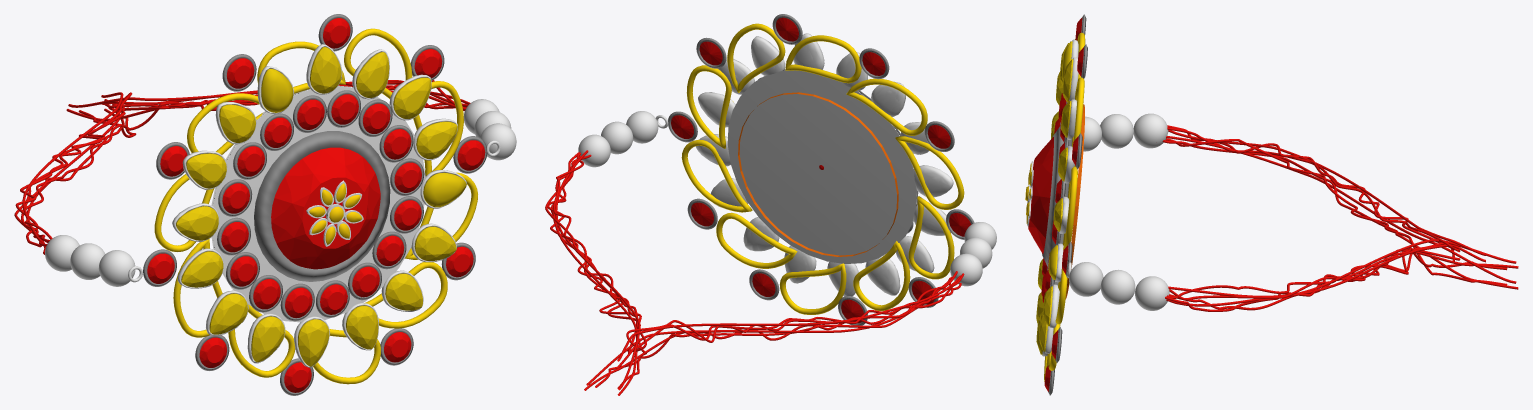
The model's file is rakhi.glb.
The picture shows the model from 3 angles, left to right: view 1: azimuth 30°, elevation 25°; view 2: azimuth 150°, elevation 25°; view 3: azimuth 270°, elevation 25°; orthographic projection. The views are drawn at different scales.
Parts seen in each view (by area): view 1: Gem_2, BezierCurve.010_28, pCone1.024_26, Cylinder_0, pCone1.034_27, Gem metal_29, BezierCurve.001_60, BezierCurve.002_61, Flower.002_50, Sphere.001_57, Flower.001_51, Sphere.002_58 (+30 smaller); view 2: Cylinder_0, BezierCurve.010_28, Gem metal_29, BezierCurve.001_60, BezierCurve.002_61, Cylinder.001_62, Sphere.006_55, Sphere.003_59, Sphere.004_53, Sphere.005_54, Sphere.002_58, Sphere.001_57 (+7 smaller); view 3: BezierCurve.002_61, BezierCurve.001_60, Gem_2, pCone1.024_26, BezierCurve.010_28, Gem metal_29, Sphere.005_54, Sphere.003_59, Sphere.004_53, Sphere.006_55, Sphere.002_58, pCone1.034_27 (+2 smaller).
Boxes of the visible parts, <box> form: Gem_2: <box>176,47,466,366</box>; BezierCurve.010_28: <box>154,28,477,384</box>; pCone1.024_26: <box>271,147,380,269</box>; Cylinder_0: <box>211,85,425,322</box>; pCone1.034_27: <box>254,131,390,281</box>; Gem metal_29: <box>172,44,466,367</box>; BezierCurve.001_60: <box>15,80,470,247</box>; BezierCurve.002_61: <box>14,84,467,254</box>; Flower.002_50: <box>309,183,362,244</box>; Sphere.001_57: <box>98,250,135,286</box>; Flower.001_51: <box>306,180,363,246</box>; Sphere.002_58: <box>70,243,105,279</box>; Cylinder_0: <box>727,69,918,263</box>; BezierCurve.010_28: <box>681,23,964,314</box>; Gem metal_29: <box>696,33,953,296</box>; BezierCurve.001_60: <box>545,150,964,395</box>; BezierCurve.002_61: <box>547,152,961,390</box>; Cylinder.001_62: <box>738,92,898,256</box>; Sphere.006_55: <box>578,134,610,167</box>; Sphere.003_59: <box>950,253,982,286</box>; Sphere.004_53: <box>626,111,658,143</box>; Sphere.005_54: <box>601,121,633,154</box>; Sphere.002_58: <box>960,237,992,268</box>; Sphere.001_57: <box>964,222,996,249</box>; BezierCurve.002_61: <box>1162,136,1518,311</box>; BezierCurve.001_60: <box>1166,125,1518,300</box>; Gem_2: <box>1036,41,1073,354</box>; pCone1.024_26: <box>1028,137,1053,253</box>; BezierCurve.010_28: <box>1044,32,1085,381</box>; Gem metal_29: <box>1042,39,1078,356</box>; Sphere.005_54: <box>1100,269,1135,304</box>; Sphere.003_59: <box>1133,113,1168,148</box>; Sphere.004_53: <box>1069,262,1103,296</box>; Sphere.006_55: <box>1135,276,1169,310</box>; Sphere.002_58: <box>1100,114,1133,148</box>; pCone1.034_27: <box>1042,125,1063,267</box>.
Bounding box in the file's own units: 0.7744 × 0.5803 × 0.7743.
